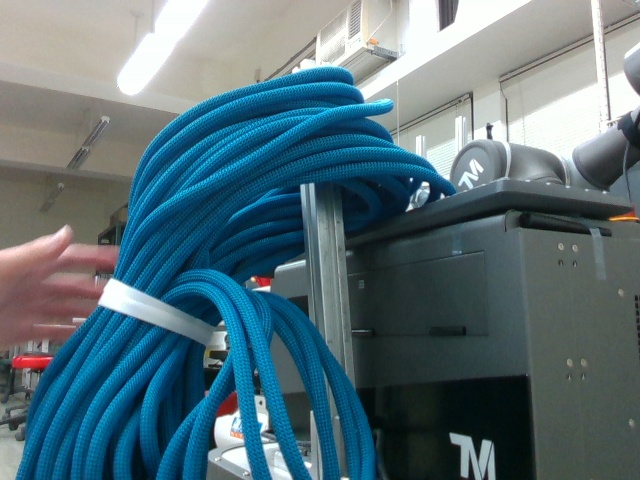rope: (9, 64, 461, 480)
